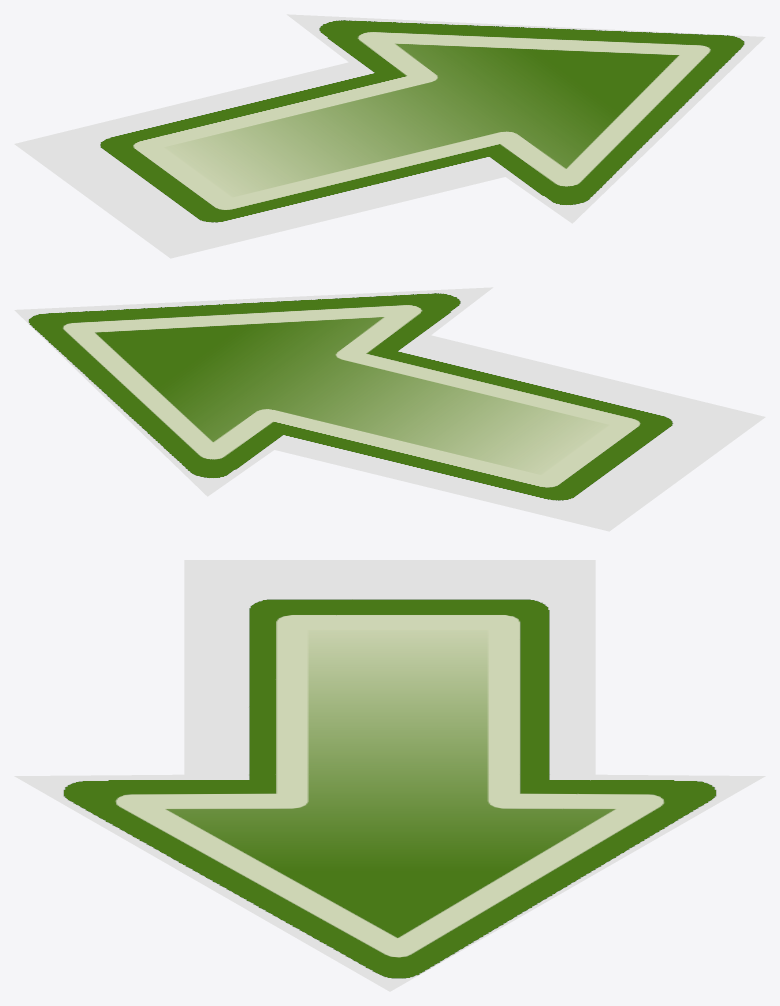
Rendered from Arrow_Type2_BluePlayer_V4.FBX.
3 renders of one model, top to bottom at view 1: azimuth 30°, elevation 25°; view 2: azimuth 150°, elevation 25°; view 3: azimuth 270°, elevation 25°, orthographic. The views are drawn at different scales.
Visible parts, largest first — view 1: Arrow; view 2: Arrow; view 3: Arrow.
Boxes of the visible parts, x1,y1,x2,y2 form: Arrow: (14, 14, 765, 258); Arrow: (14, 287, 765, 531); Arrow: (14, 560, 765, 991).
Bounding box in the file's own units: 13.07 × 6.11e-16 × 9.61.
Materials: 1 (1 with a texture image).
